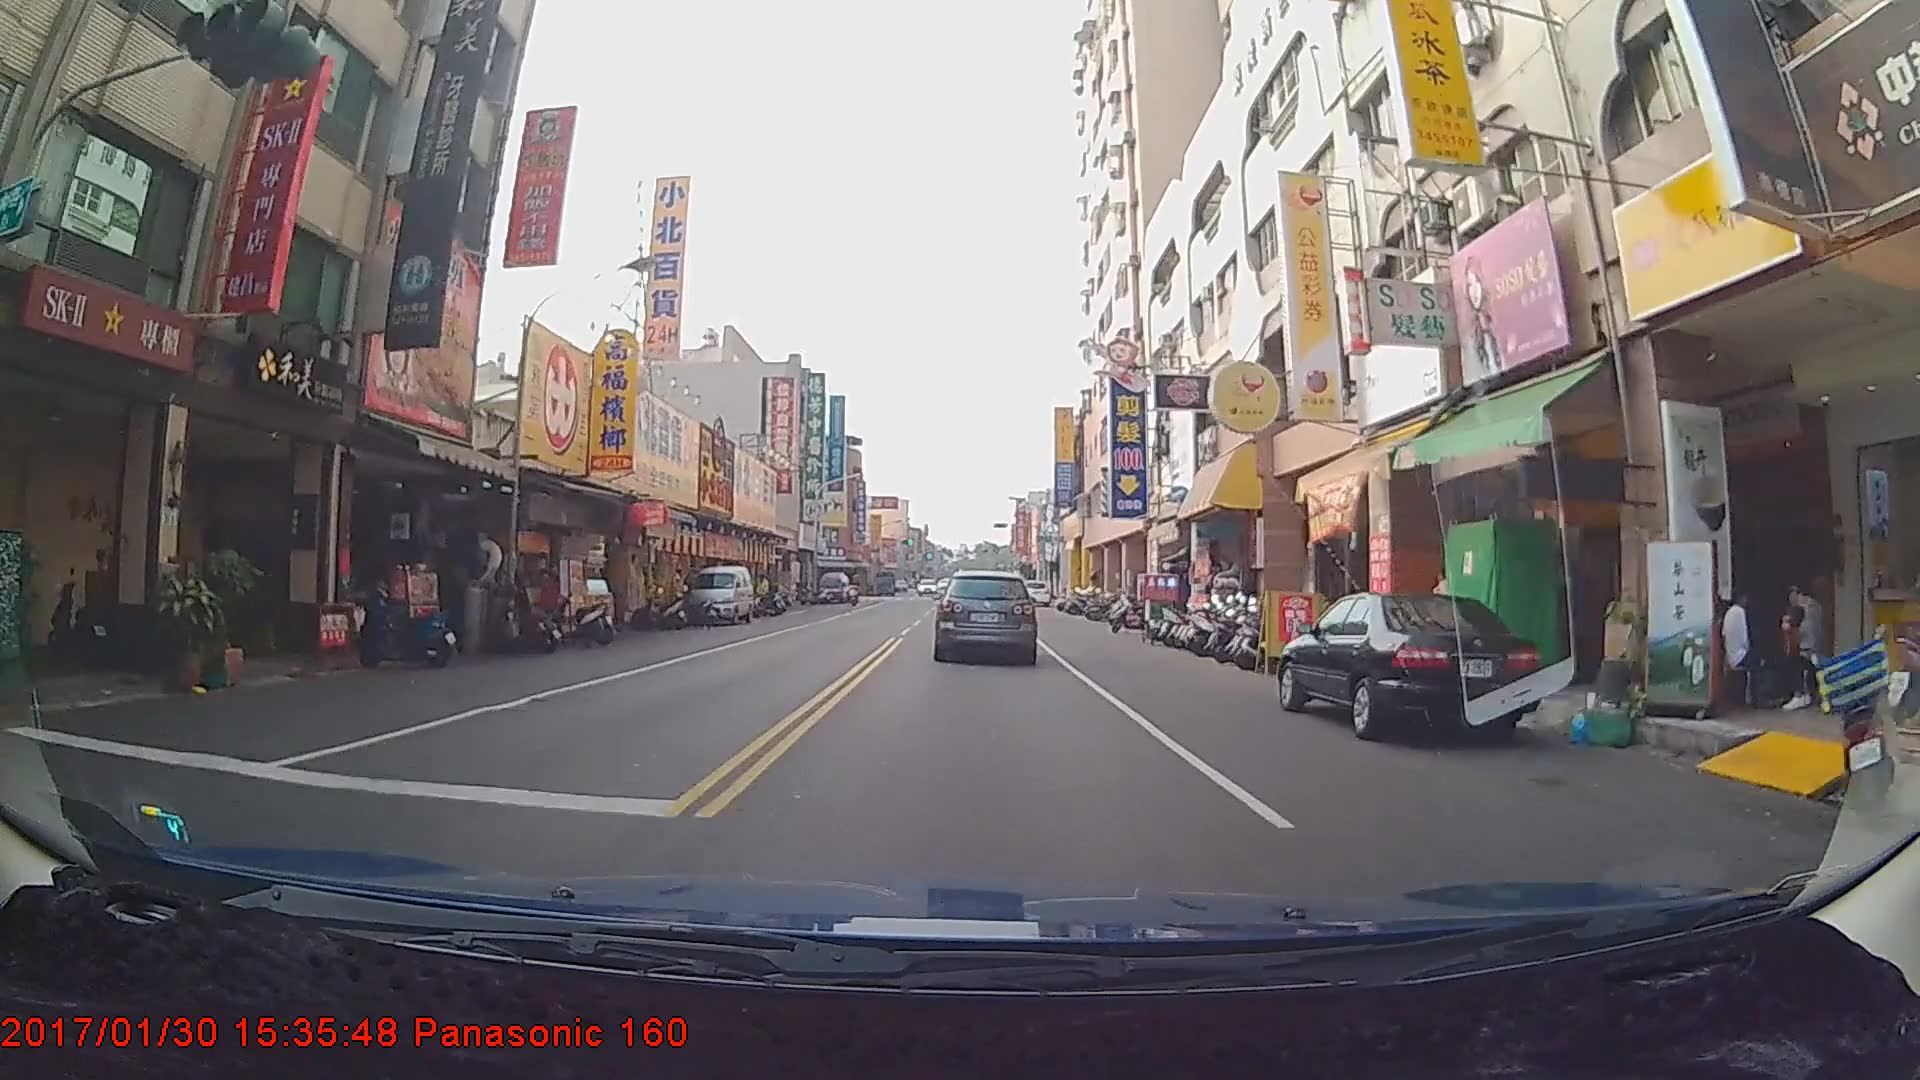pedestrian: (1781, 574, 1831, 716), (1719, 578, 1772, 707)
vehicle: (1275, 589, 1538, 740), (935, 570, 1036, 662), (684, 566, 752, 627), (816, 567, 847, 602), (1017, 573, 1049, 601)
